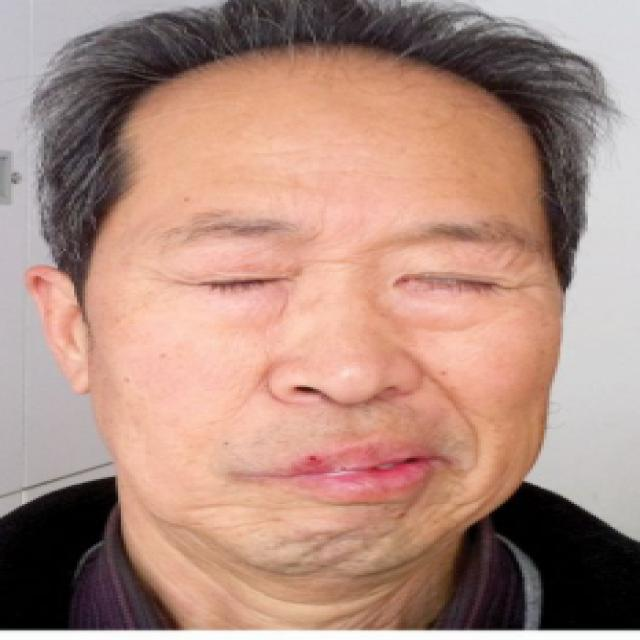stroke_face: (64, 18, 561, 585)
